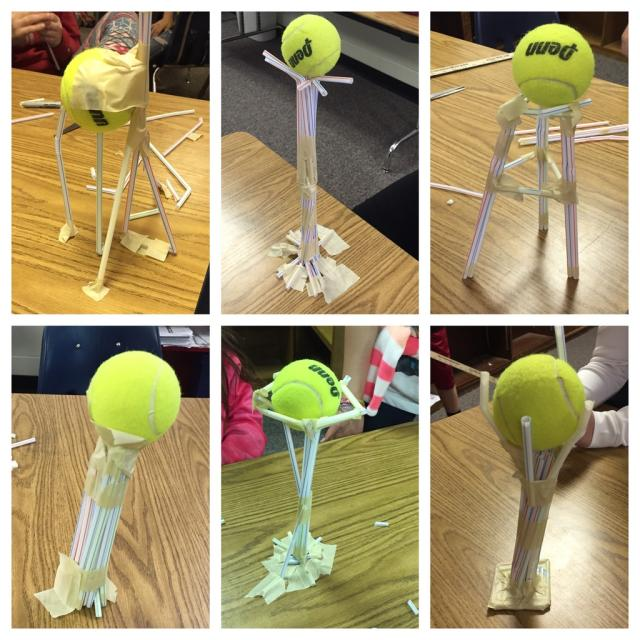Tennis ball: (494, 354, 584, 454), (85, 352, 181, 442), (508, 25, 593, 107), (60, 50, 136, 135), (271, 359, 344, 433), (278, 13, 342, 80)
